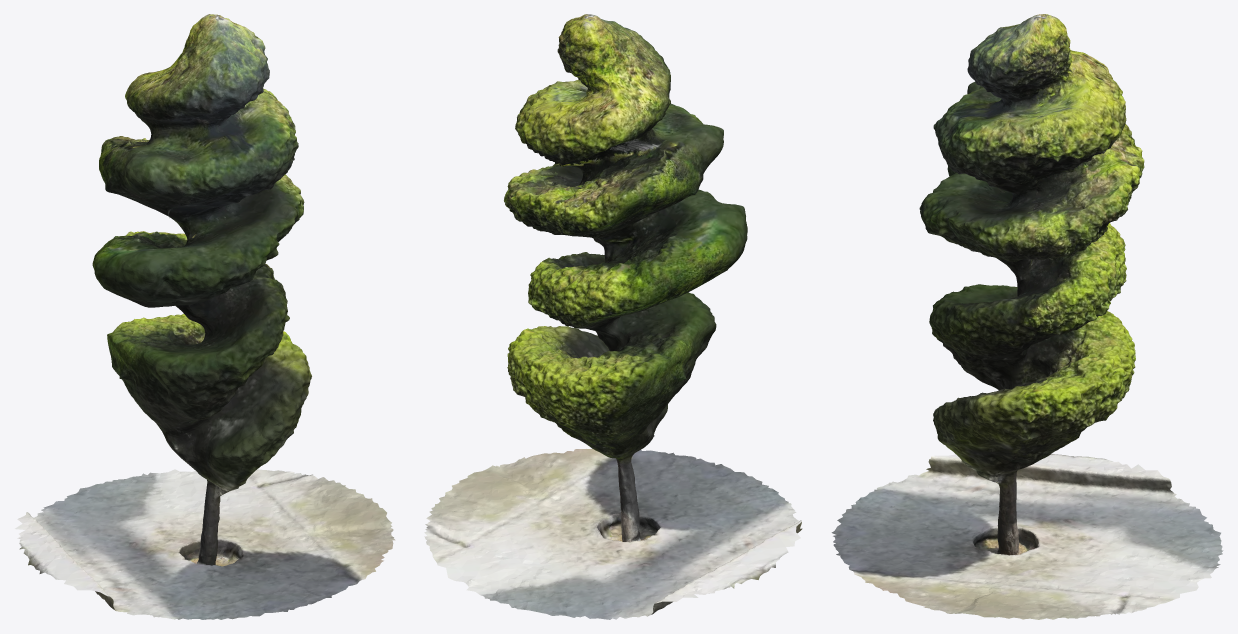
Rendered from tree_3dst13.glb.
3 views of the same model, side by side, from view 1: azimuth 30°, elevation 25°; view 2: azimuth 150°, elevation 25°; view 3: azimuth 270°, elevation 25° (orthographic). The views are drawn at different scales.
Visible parts, largest first — view 1: Plant~~; view 2: Plant~~; view 3: Plant~~.
Part boxes in pixels (<box>): Plant~~: <box>15,14,395,619</box>; Plant~~: <box>424,14,802,619</box>; Plant~~: <box>831,14,1223,619</box>.
Size of the model in its own units: 17.31 by 26.8 by 17.29.
Materials: 1 (1 with a texture image).
